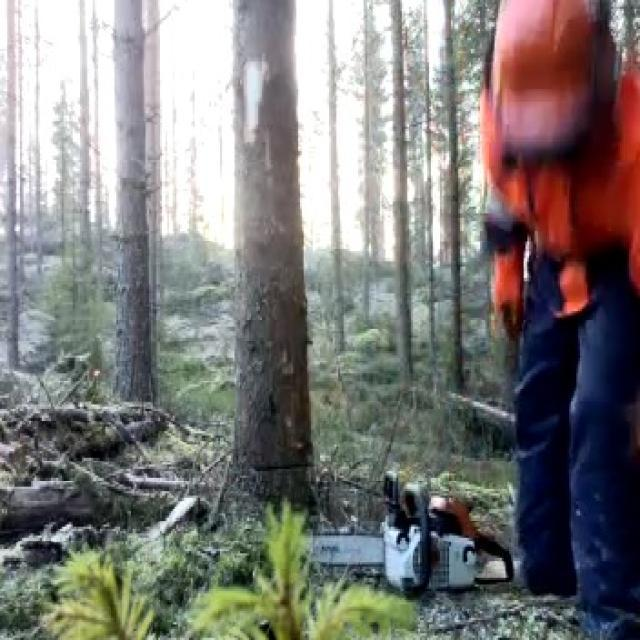Chainsaw: (273, 461, 522, 595)
